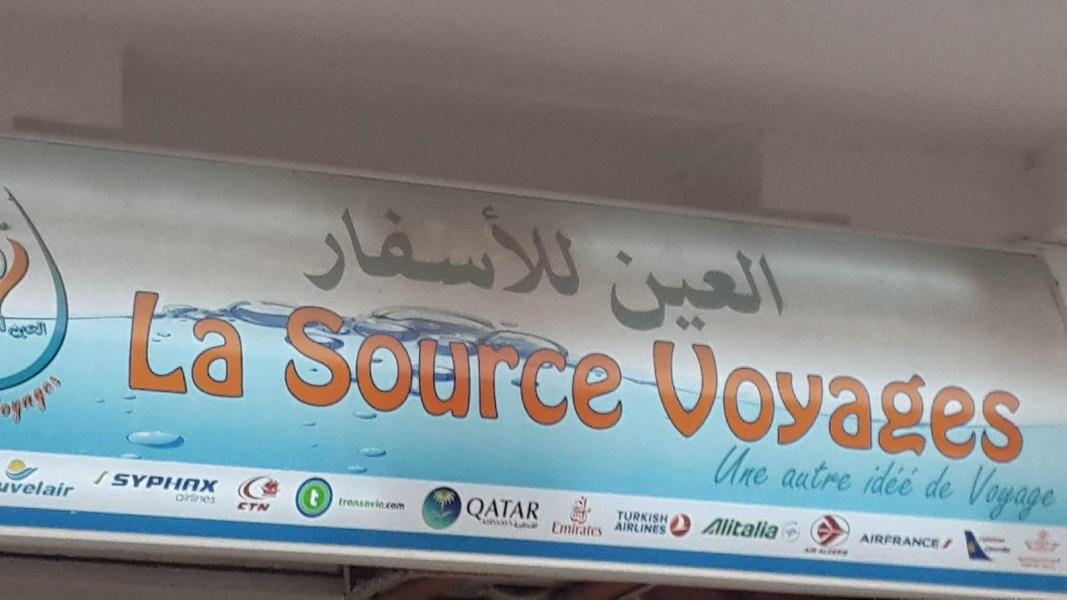text: (289, 302, 304, 438), (305, 302, 320, 438), (321, 302, 336, 438), (337, 302, 352, 438), (353, 302, 368, 438), (369, 302, 384, 438), (385, 302, 400, 438), (401, 302, 416, 438), (417, 302, 432, 438), (433, 302, 448, 438), (449, 302, 464, 438), (465, 302, 480, 438), (481, 302, 496, 438), (497, 302, 512, 438), (513, 302, 528, 438), (529, 302, 544, 438), (545, 302, 560, 438), (561, 302, 576, 438), (577, 302, 592, 438), (593, 302, 608, 438), (609, 302, 624, 438), (657, 337, 672, 469), (673, 337, 688, 469), (689, 337, 704, 469), (705, 337, 720, 469), (721, 337, 736, 469), (737, 337, 752, 469), (753, 337, 768, 469), (769, 337, 784, 469), (785, 337, 800, 469), (801, 337, 816, 469), (817, 337, 832, 469), (833, 337, 848, 469), (849, 337, 864, 469), (865, 337, 880, 469), (881, 337, 896, 469), (897, 337, 912, 469), (913, 337, 928, 469), (929, 337, 944, 469), (945, 337, 960, 469), (961, 337, 976, 469), (977, 337, 992, 469), (993, 337, 1008, 469), (1009, 337, 1024, 469), (321, 194, 336, 306), (337, 194, 352, 306), (353, 194, 368, 306), (369, 194, 384, 306), (385, 194, 400, 306), (401, 194, 416, 306), (417, 194, 432, 306), (433, 194, 448, 306), (449, 194, 464, 306), (465, 194, 480, 306), (481, 194, 496, 306), (497, 194, 512, 306), (513, 194, 528, 306), (529, 194, 544, 306), (545, 194, 560, 306), (561, 194, 576, 306), (145, 289, 160, 398), (161, 289, 176, 398), (177, 289, 192, 398), (193, 289, 208, 398), (209, 289, 224, 398), (225, 289, 240, 398), (609, 241, 624, 333), (625, 241, 640, 333), (641, 241, 656, 333), (657, 241, 672, 333), (673, 241, 688, 333), (689, 241, 704, 333), (705, 241, 720, 333), (721, 241, 736, 333), (737, 241, 752, 333), (753, 241, 768, 333), (769, 241, 784, 333), (135, 289, 144, 398), (993, 464, 1008, 526), (1009, 464, 1024, 526), (1025, 464, 1040, 526), (1041, 464, 1056, 526), (1, 374, 16, 432), (17, 374, 32, 432), (33, 374, 48, 432), (49, 374, 64, 432), (978, 464, 992, 526), (650, 337, 656, 469), (313, 194, 320, 306), (721, 443, 736, 490), (737, 443, 752, 490), (753, 443, 768, 490), (881, 459, 896, 500), (897, 459, 912, 500), (577, 194, 582, 306), (801, 457, 816, 494), (817, 457, 832, 494), (833, 457, 848, 494), (65, 374, 74, 432), (786, 457, 800, 494), (932, 465, 944, 504), (785, 241, 790, 333), (241, 289, 245, 398), (625, 302, 628, 438), (705, 516, 720, 543), (721, 516, 736, 543), (737, 516, 752, 543), (753, 516, 768, 543), (945, 465, 955, 504), (481, 496, 496, 522), (497, 496, 512, 522), (513, 496, 528, 522), (913, 459, 922, 500), (129, 472, 144, 495), (145, 472, 160, 495), (161, 472, 176, 495), (177, 472, 192, 495), (193, 472, 208, 495), (769, 516, 781, 543), (33, 321, 49, 341), (1, 478, 16, 499), (17, 478, 32, 499), (33, 478, 48, 499), (49, 478, 64, 499), (881, 530, 896, 551), (897, 530, 912, 551), (913, 530, 928, 551), (468, 496, 480, 522), (17, 321, 32, 341), (993, 534, 1008, 554), (866, 530, 880, 551), (529, 496, 540, 522), (561, 519, 576, 538), (577, 519, 592, 538), (978, 534, 992, 554), (286, 302, 288, 438), (353, 495, 368, 513), (369, 495, 384, 513), (385, 495, 400, 513), (1025, 337, 1027, 469), (625, 509, 640, 526), (641, 509, 656, 526), (657, 509, 672, 526), (625, 520, 640, 537), (641, 520, 656, 537), (117, 472, 128, 495), (929, 530, 941, 551), (1057, 464, 1061, 526), (593, 519, 606, 538), (65, 478, 76, 499), (209, 472, 219, 495), (1025, 557, 1040, 572), (1041, 557, 1056, 572), (849, 457, 855, 494), (340, 495, 352, 513), (817, 545, 832, 559), (833, 545, 848, 559), (177, 493, 192, 505), (193, 493, 208, 505), (481, 518, 496, 530), (497, 518, 511, 530), (804, 545, 816, 559), (241, 502, 256, 513), (257, 502, 272, 513), (876, 459, 880, 500), (8, 321, 16, 341), (615, 520, 624, 537), (657, 520, 666, 537), (312, 489, 320, 507), (769, 443, 772, 490), (209, 493, 219, 505), (1016, 557, 1024, 572), (554, 519, 560, 538), (401, 495, 406, 513), (1057, 557, 1063, 572), (619, 509, 624, 526), (1009, 534, 1013, 554), (849, 545, 852, 559), (239, 502, 240, 513)
